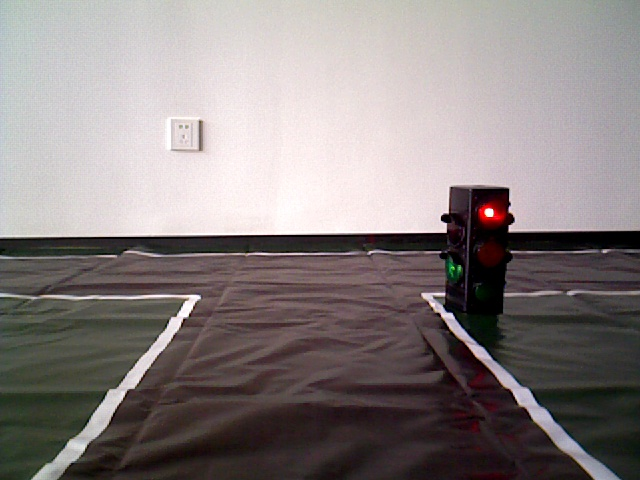red: (447, 189, 500, 311)
